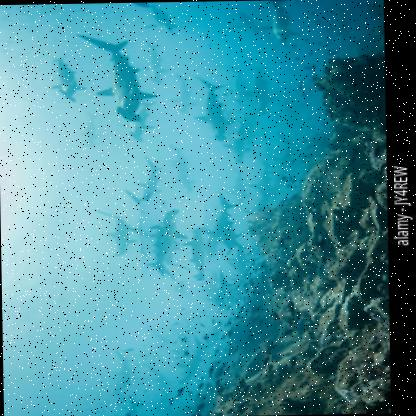hammerhead_Shark: (47, 23, 166, 134), (140, 197, 205, 280)
